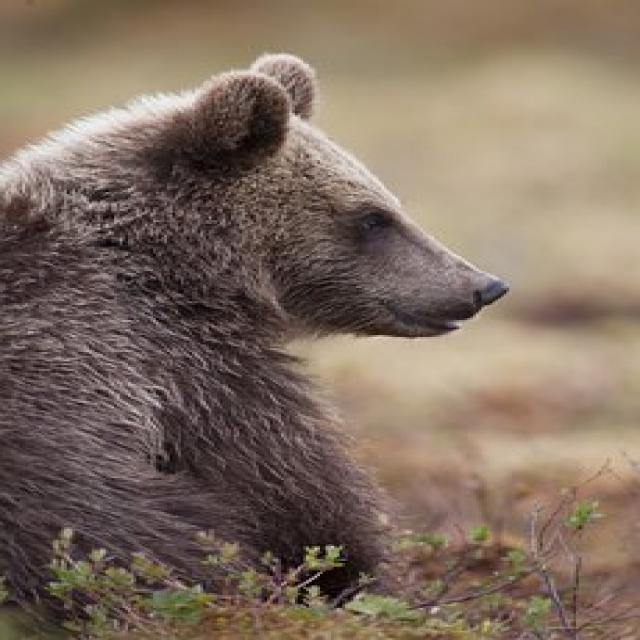Bear: (0, 53, 509, 627)
